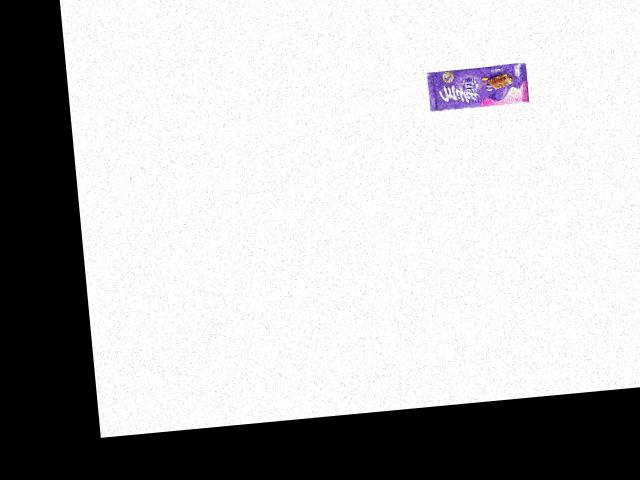chocolate: (425, 61, 529, 112)
